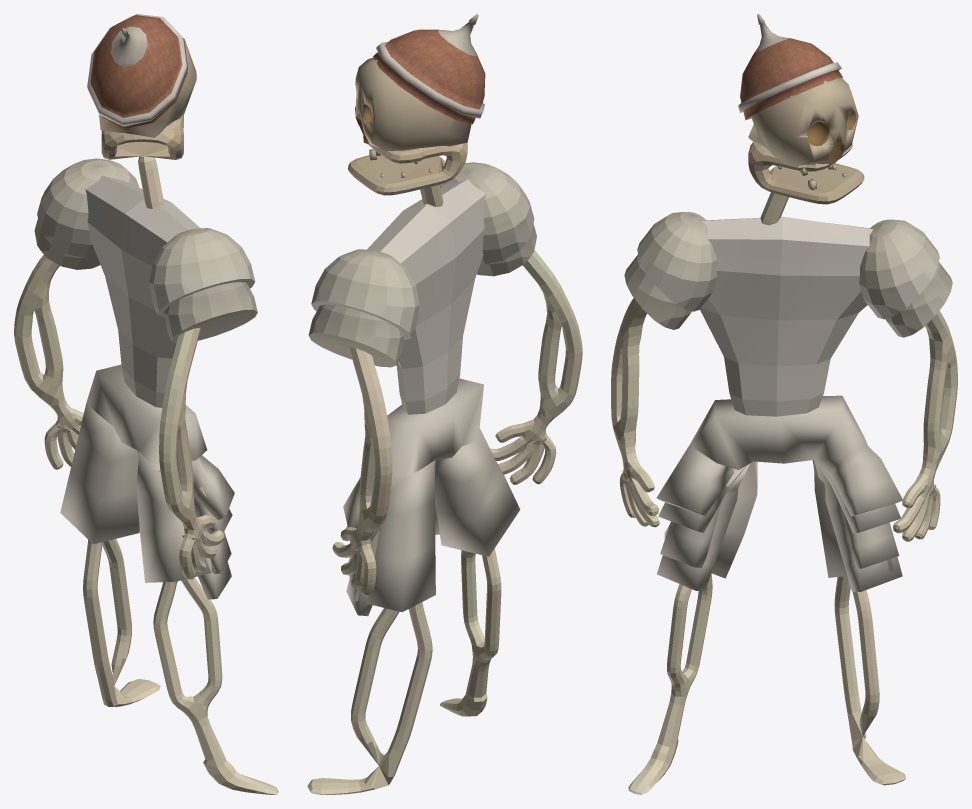
Rendered from Esqueleto Enemigo.fbx.
3 renders of one model, left to right at view 1: azimuth 30°, elevation 25°; view 2: azimuth 150°, elevation 25°; view 3: azimuth 270°, elevation 25°, orthographic. The views are drawn at different scales.
Parts seen in each view (by area): view 1: Personaje; view 2: Personaje; view 3: Personaje.
Boxes of the visible parts, x1,y1,x2,y2 form: Personaje: (14, 14, 278, 794); Personaje: (307, 14, 582, 794); Personaje: (611, 14, 957, 794).
Size of the model in its own units: 139 by 743 by 317.
6 materials, 6 textured.
